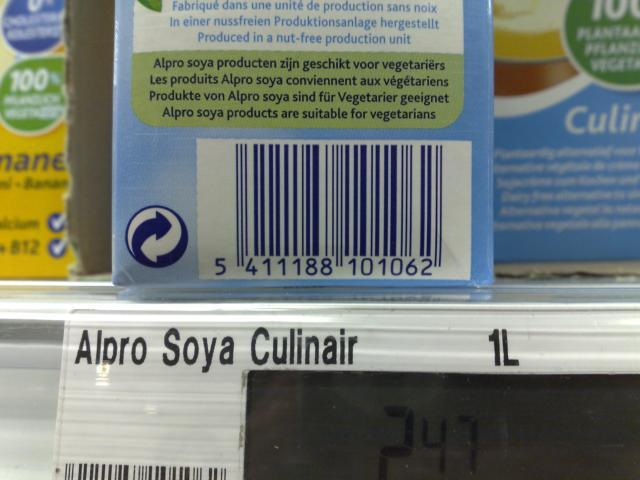Barcode: (197, 138, 471, 279)
